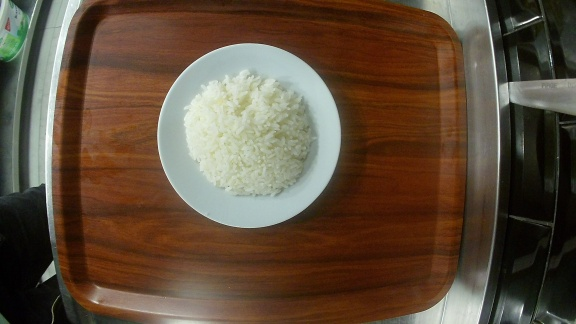pilav: (157, 43, 344, 228)
